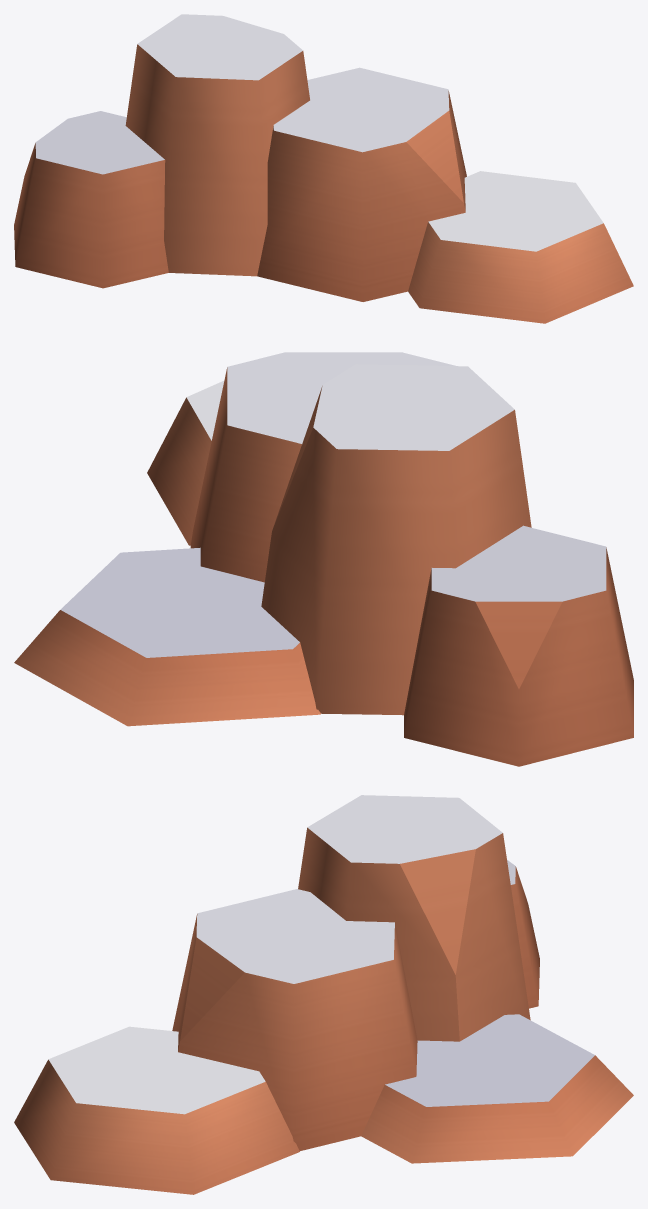
Rendered from snow-detail-dirt.gltf.
3 renders of one model, top to bottom at view 1: azimuth 30°, elevation 25°; view 2: azimuth 150°, elevation 25°; view 3: azimuth 270°, elevation 25°, orthographic. The views are drawn at different scales.
Visible parts, largest first — view 1: snow-detail-dirt; view 2: snow-detail-dirt; view 3: snow-detail-dirt.
Boxes of the visible parts, x1,y1,x2,y2 form: snow-detail-dirt: (14,14,633,323); snow-detail-dirt: (14,352,633,766); snow-detail-dirt: (14,795,633,1194).
Size of the model in its own units: 0.7028 by 0.2653 by 0.712.
1 material, 1 textured.
